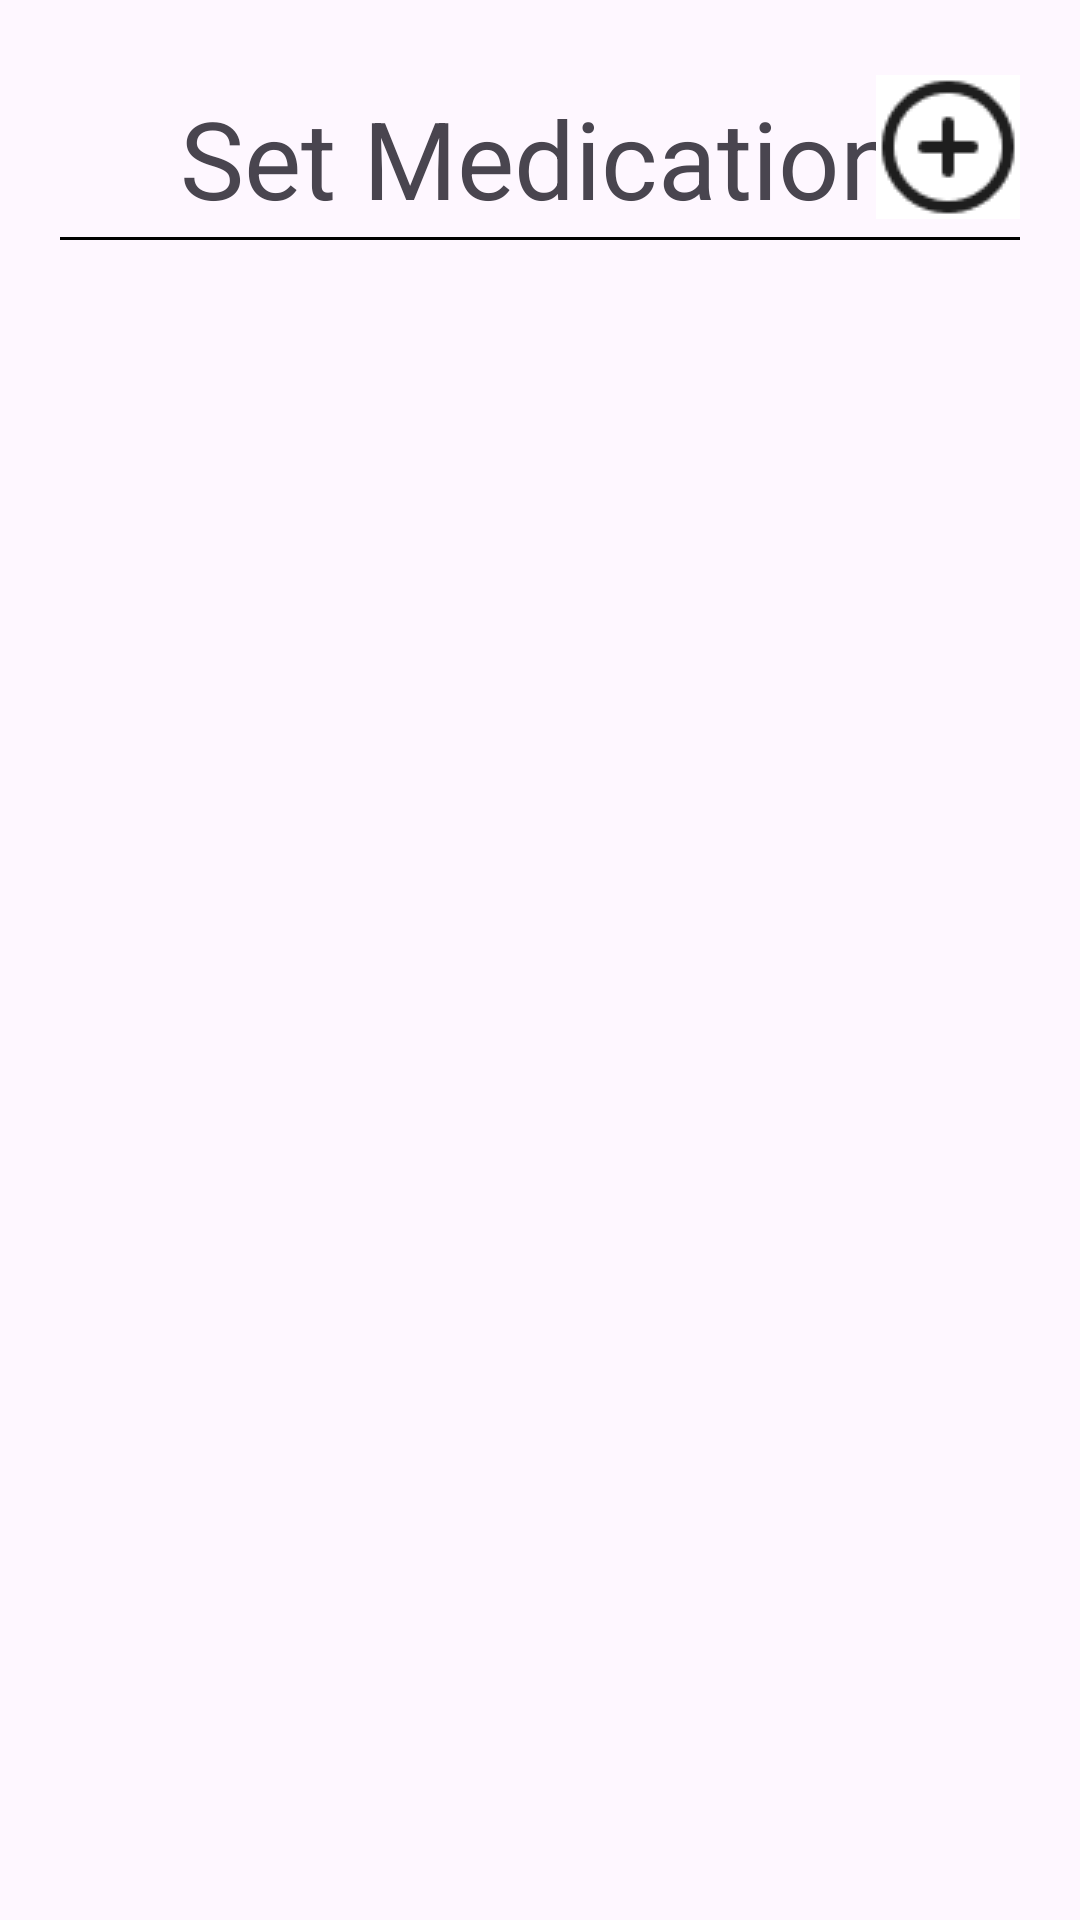

Icons on this 1080 × 1920 Android screen, each with its box as box(x1, y1, x2, y2):
Add device Button: box(881, 80, 1015, 214)
